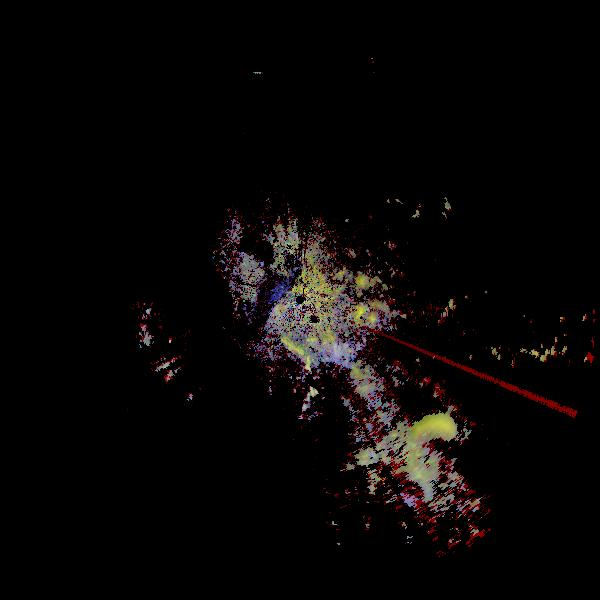roost: (396, 404, 495, 503), (244, 332, 331, 419)
